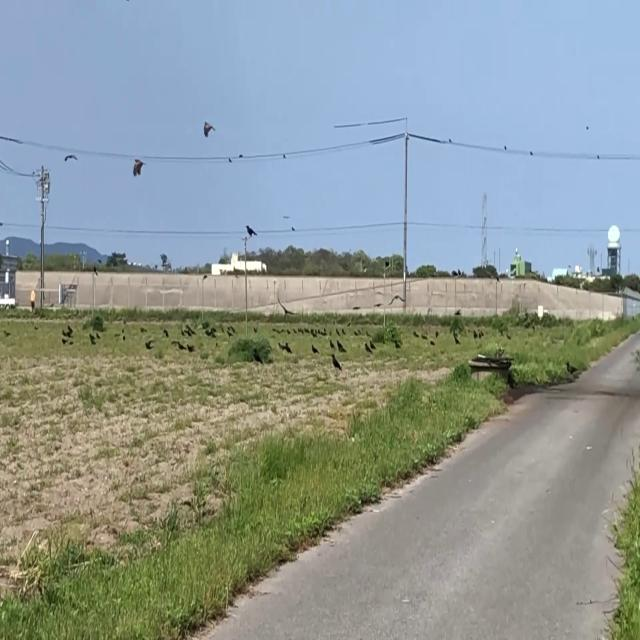bird: (203, 115, 213, 142), (133, 154, 143, 181), (65, 145, 76, 169), (332, 347, 340, 372), (246, 221, 255, 242), (337, 339, 343, 359), (312, 340, 317, 356), (365, 341, 369, 357), (286, 339, 290, 355), (474, 328, 477, 342), (292, 221, 295, 233)
